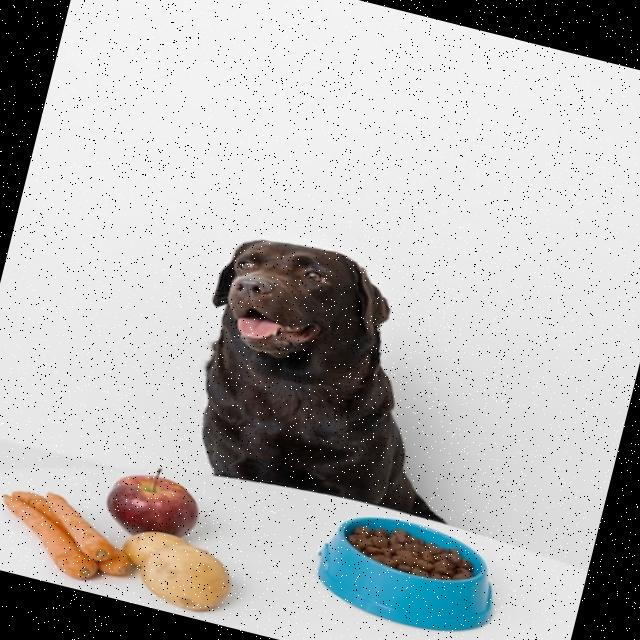Dog: (169, 225, 503, 532)
